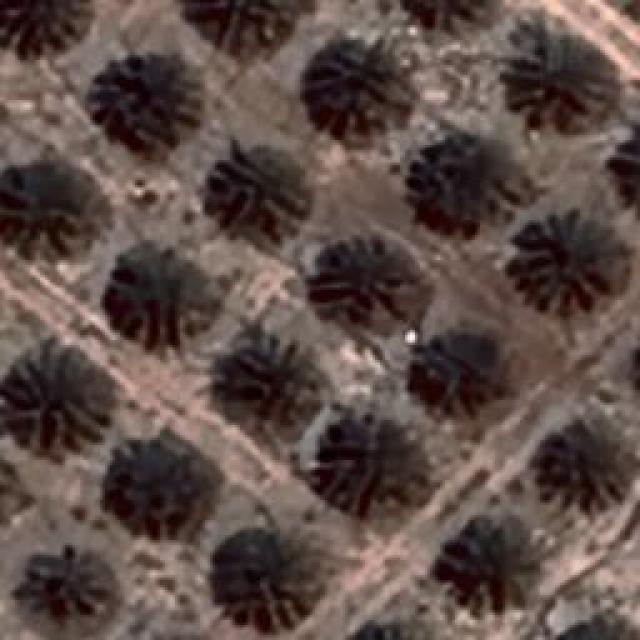PalmTree: (302, 30, 416, 145), (215, 328, 328, 430), (0, 348, 110, 450), (510, 212, 615, 312), (212, 536, 322, 629), (124, 241, 214, 349), (98, 435, 206, 525), (210, 142, 308, 240), (538, 410, 632, 512), (412, 332, 516, 420), (416, 144, 514, 236), (314, 421, 414, 511), (0, 166, 102, 251), (18, 544, 114, 634), (98, 56, 196, 144), (508, 40, 606, 128), (447, 518, 545, 606), (322, 238, 416, 324), (205, 0, 298, 55), (0, 0, 95, 52), (393, 0, 500, 35), (600, 122, 640, 214), (338, 616, 444, 640), (534, 616, 640, 640)
